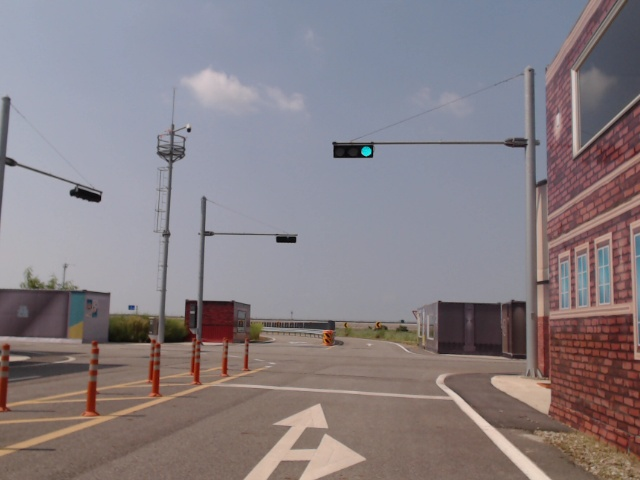green_3: (333, 144, 374, 159)
